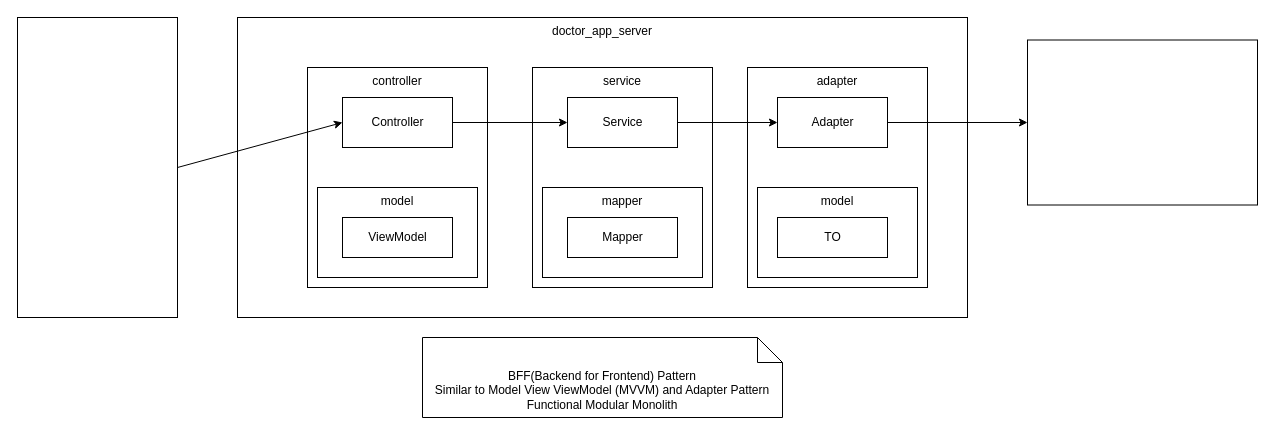
Some shapes in this 1275 by 435 pixel diagram are drawn without their labels. Here are the shapes that lost their labels. From the top down, the centre of each, then its label:
At point (1142, 122): "ECP (E-Consent Pro)".
At point (97, 167): "client".
